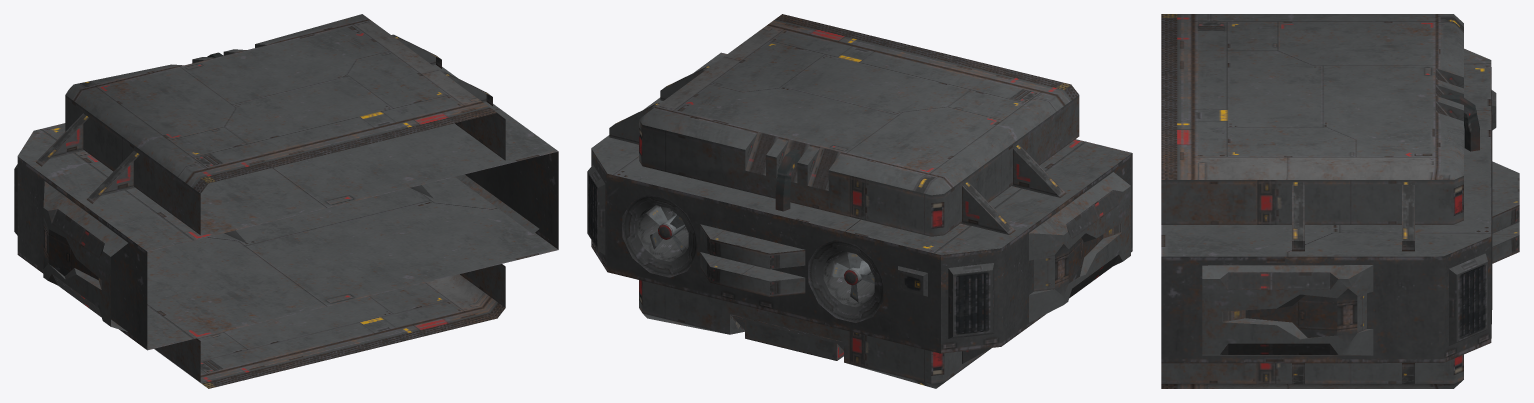
File: ARC0910253.fbx
The picture shows the model from 3 angles, left to right: view 1: azimuth 30°, elevation 25°; view 2: azimuth 150°, elevation 25°; view 3: azimuth 270°, elevation 25°; orthographic projection. The views are drawn at different scales.
Parts seen in each view (by area): view 1: smARC0910253; view 2: smARC0910253; view 3: smARC0910253.
Boxes of the visible parts, bbox=[...] form: smARC0910253: bbox=[14, 14, 558, 388]; smARC0910253: bbox=[587, 14, 1132, 388]; smARC0910253: bbox=[1161, 14, 1519, 388].
Size of the model in its own units: 910 by 406 by 592.
1 material, 1 textured.
